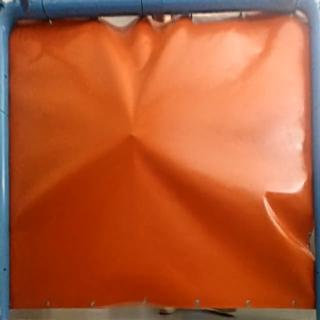Hit-hRxx: (124, 129, 143, 143)
